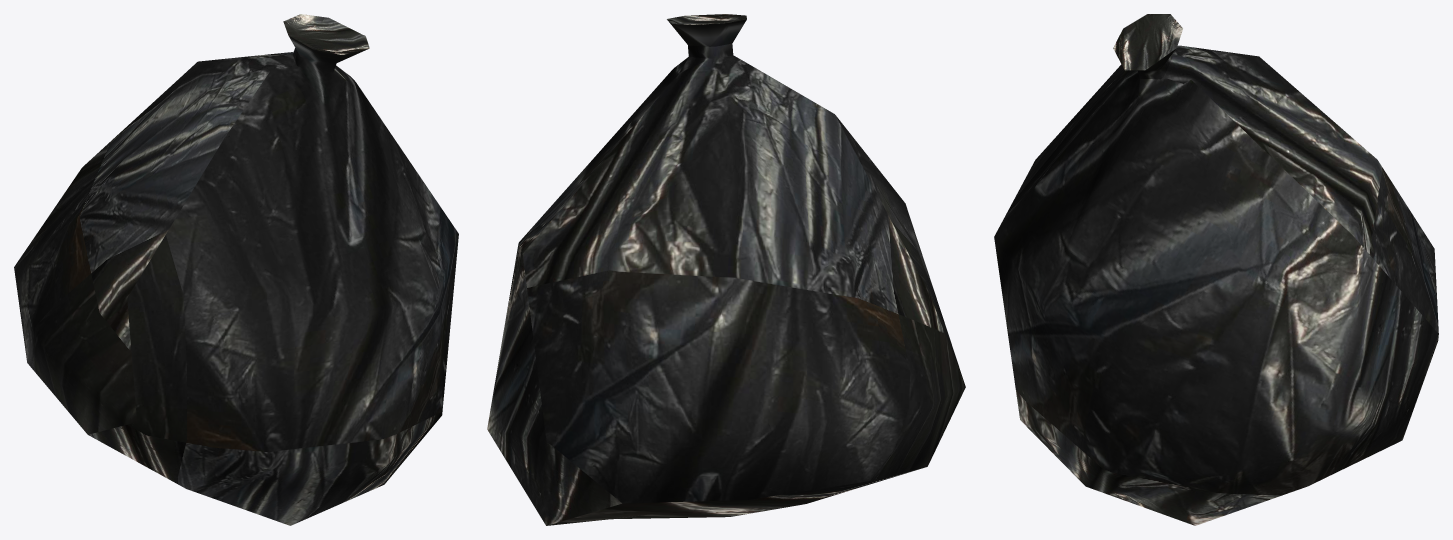
File: BetterTrashbag.fbx
The picture shows the model from 3 angles, left to right: view 1: azimuth 30°, elevation 25°; view 2: azimuth 150°, elevation 25°; view 3: azimuth 270°, elevation 25°; orthographic projection. The views are drawn at different scales.
Parts seen in each view (by area): view 1: Trash_bag; view 2: Trash_bag; view 3: Trash_bag.
Part boxes in pixels (x1,y1,x2,y2): Trash_bag: (14, 14, 458, 525); Trash_bag: (487, 14, 965, 525); Trash_bag: (994, 14, 1438, 525).
Bounding box in the file's own units: 74.4 × 85.66 × 75.27.
